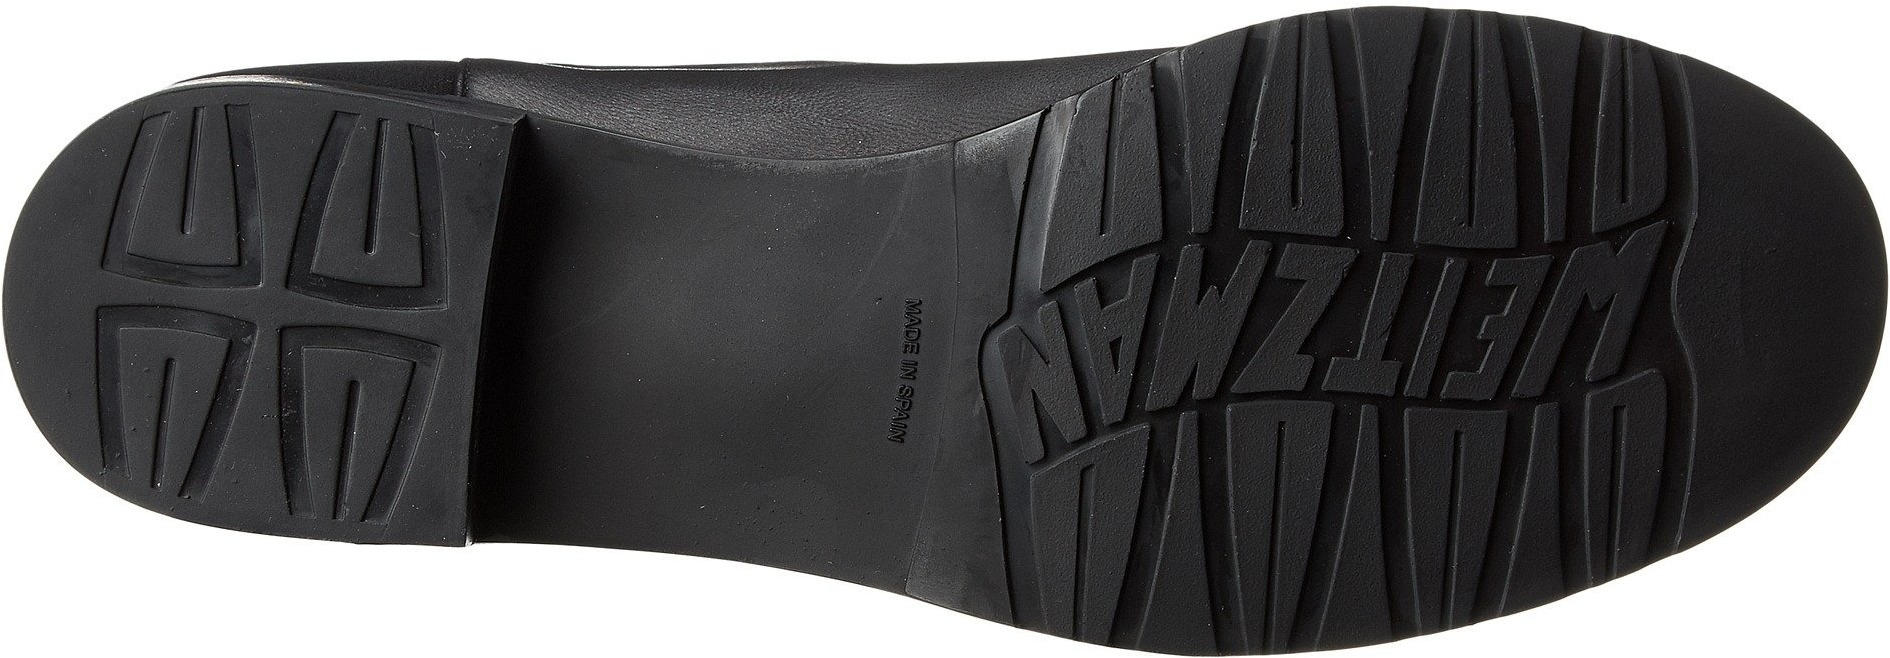exclude: (459, 107, 880, 595)
quad: (1508, 403, 1638, 631)
text: (1325, 241, 1502, 409), (1147, 259, 1316, 404), (1009, 287, 1147, 429), (1520, 245, 1640, 371), (868, 274, 937, 351), (876, 362, 932, 415)
